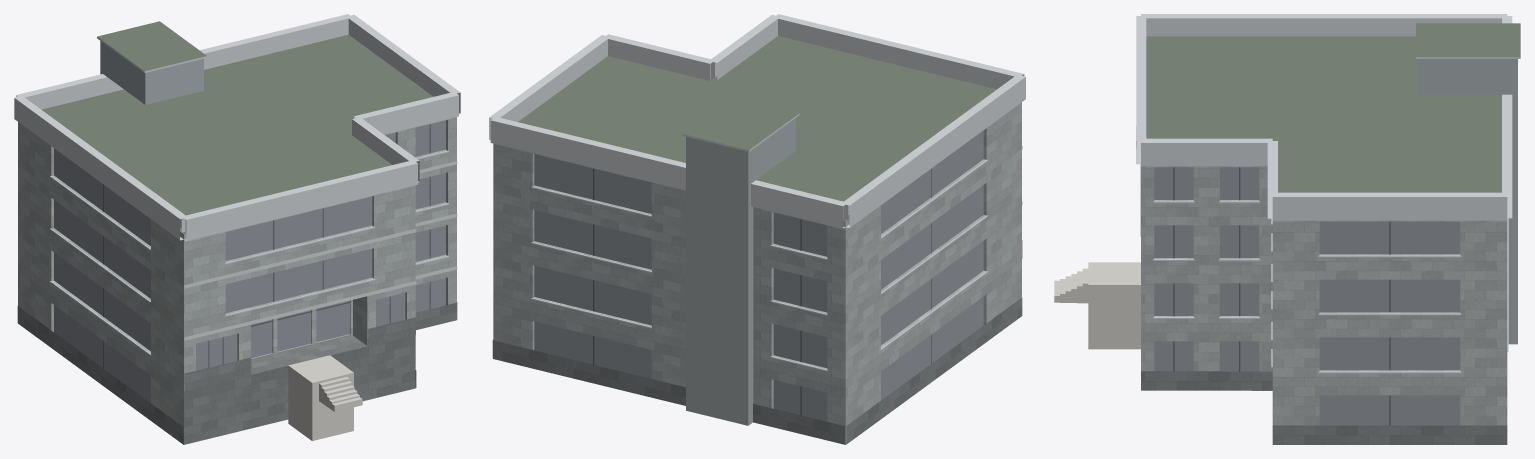
3 renders of one model, left to right at view 1: azimuth 30°, elevation 25°; view 2: azimuth 150°, elevation 25°; view 3: azimuth 270°, elevation 25°, orthographic. The views are drawn at different scales.
Visible parts, largest first — view 1: b43__wall, b43__roof, b43__glass, b43__trim, b43__base, b43__entranceStair, b43__wall2, b43__frame; view 2: b43__wall, b43__roof, b43__glass, b43__trim, b43__wall2, b43__base, b43__frame; view 3: b43__roof, b43__wall, b43__glass, b43__trim, b43__base, b43__entranceStair, b43__wall2, b43__frame.
Part boxes in pixels (left/top/right/bottom): b43__wall: left=18, top=117, right=456, bottom=444; b43__roof: left=42, top=21, right=433, bottom=444; b43__glass: left=54, top=120, right=445, bottom=402; b43__trim: left=14, top=14, right=460, bottom=355; b43__base: left=17, top=302, right=457, bottom=444; b43__entranceStair: left=288, top=355, right=362, bottom=440; b43__wall2: left=100, top=41, right=203, bottom=104; b43__frame: left=103, top=124, right=430, bottom=368; b43__wall: left=493, top=102, right=1021, bottom=444; b43__roof: left=518, top=36, right=996, bottom=444; b43__glass: left=534, top=130, right=983, bottom=421; b43__trim: left=489, top=14, right=1025, bottom=371; b43__wall2: left=686, top=118, right=795, bottom=425; b43__base: left=492, top=240, right=1022, bottom=444; b43__frame: left=593, top=168, right=931, bottom=415; b43__roof: left=1146, top=23, right=1520, bottom=390; b43__wall: left=1141, top=166, right=1507, bottom=425; b43__glass: left=1154, top=167, right=1460, bottom=425; b43__trim: left=1136, top=14, right=1520, bottom=373; b43__base: left=1141, top=371, right=1507, bottom=444; b43__entranceStair: left=1054, top=262, right=1140, bottom=349; b43__wall2: left=1418, top=59, right=1517, bottom=344; b43__frame: left=1173, top=167, right=1390, bottom=425.
Size of the model in its own units: 24.39 by 18.21 by 26.26.
9 materials, 2 textured.
